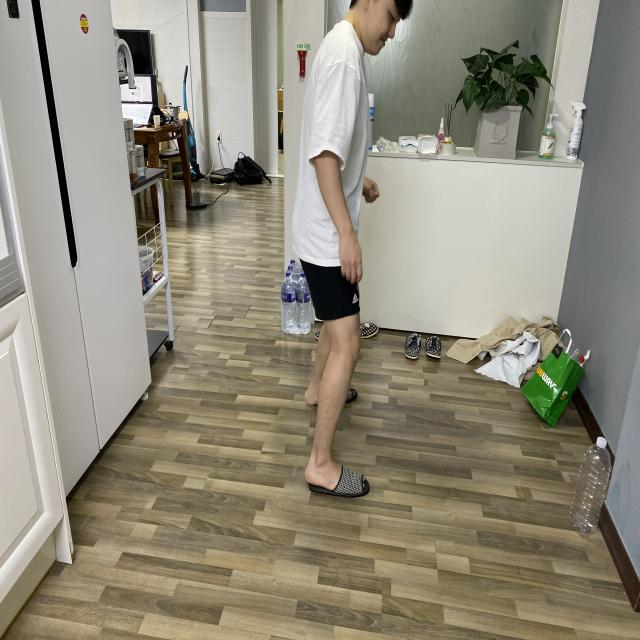no-boots: (292, 439, 376, 513)
